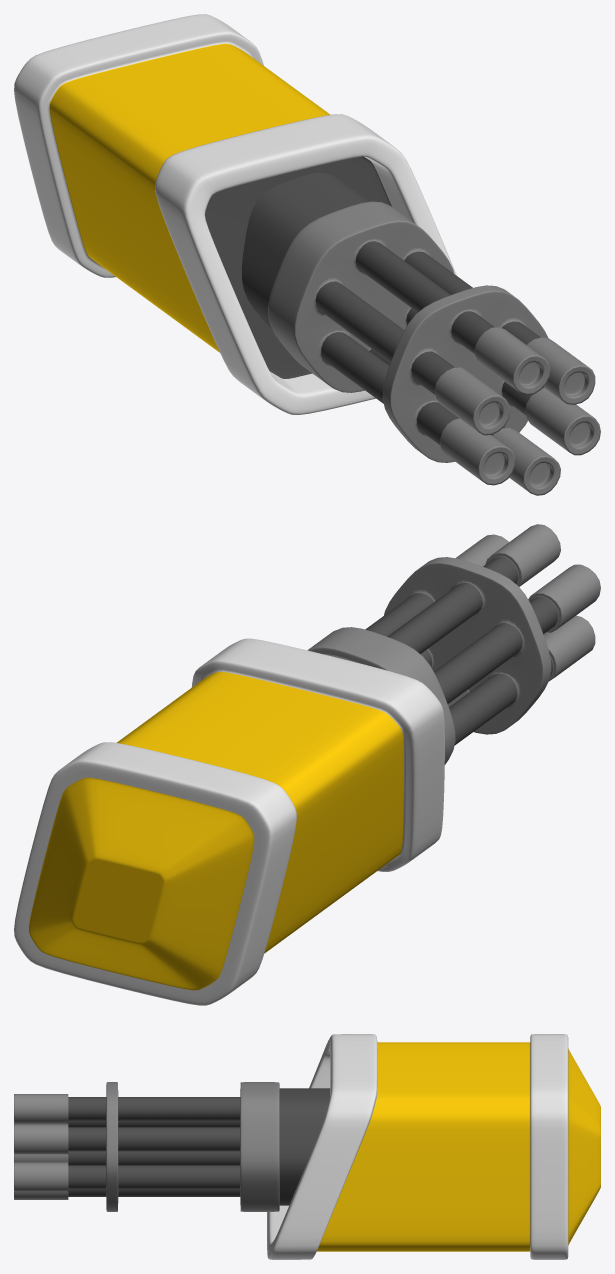
File: SB_Player_Mech_MachineGun_WithMaterials.fbx
3 renders of one model, top to bottom at view 1: azimuth 30°, elevation 25°; view 2: azimuth 150°, elevation 25°; view 3: azimuth 270°, elevation 25°, orthographic. The views are drawn at different scales.
Visible parts, largest first — view 1: Arms, Minigun; view 2: Arms, Minigun; view 3: Arms, Minigun.
Boxes of the visible parts, x1,y1,x2,y2 form: Arms: [14, 14, 456, 414]; Minigun: [241, 172, 600, 495]; Arms: [14, 638, 444, 1005]; Minigun: [307, 524, 600, 764]; Arms: [267, 1034, 600, 1259]; Minigun: [14, 1082, 330, 1211].
Size of the model in its own units: 96.73 by 79.43 by 271.
